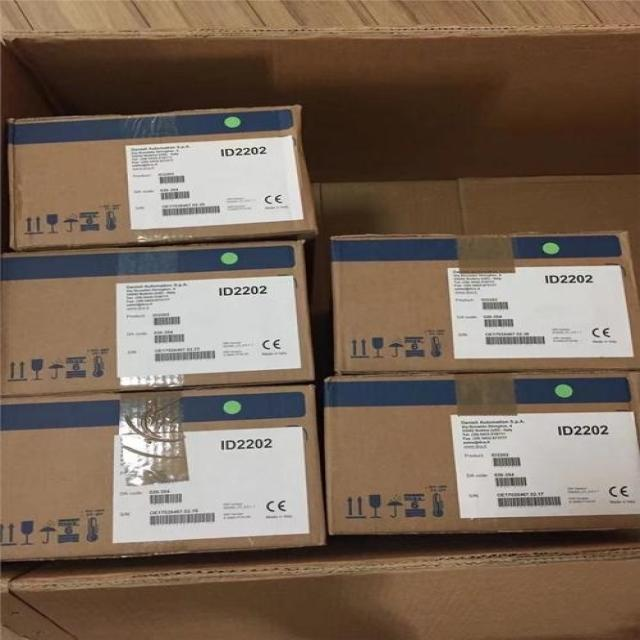box: (6, 105, 320, 307), (0, 384, 328, 562), (325, 370, 640, 534), (0, 238, 314, 397), (330, 231, 640, 374)
